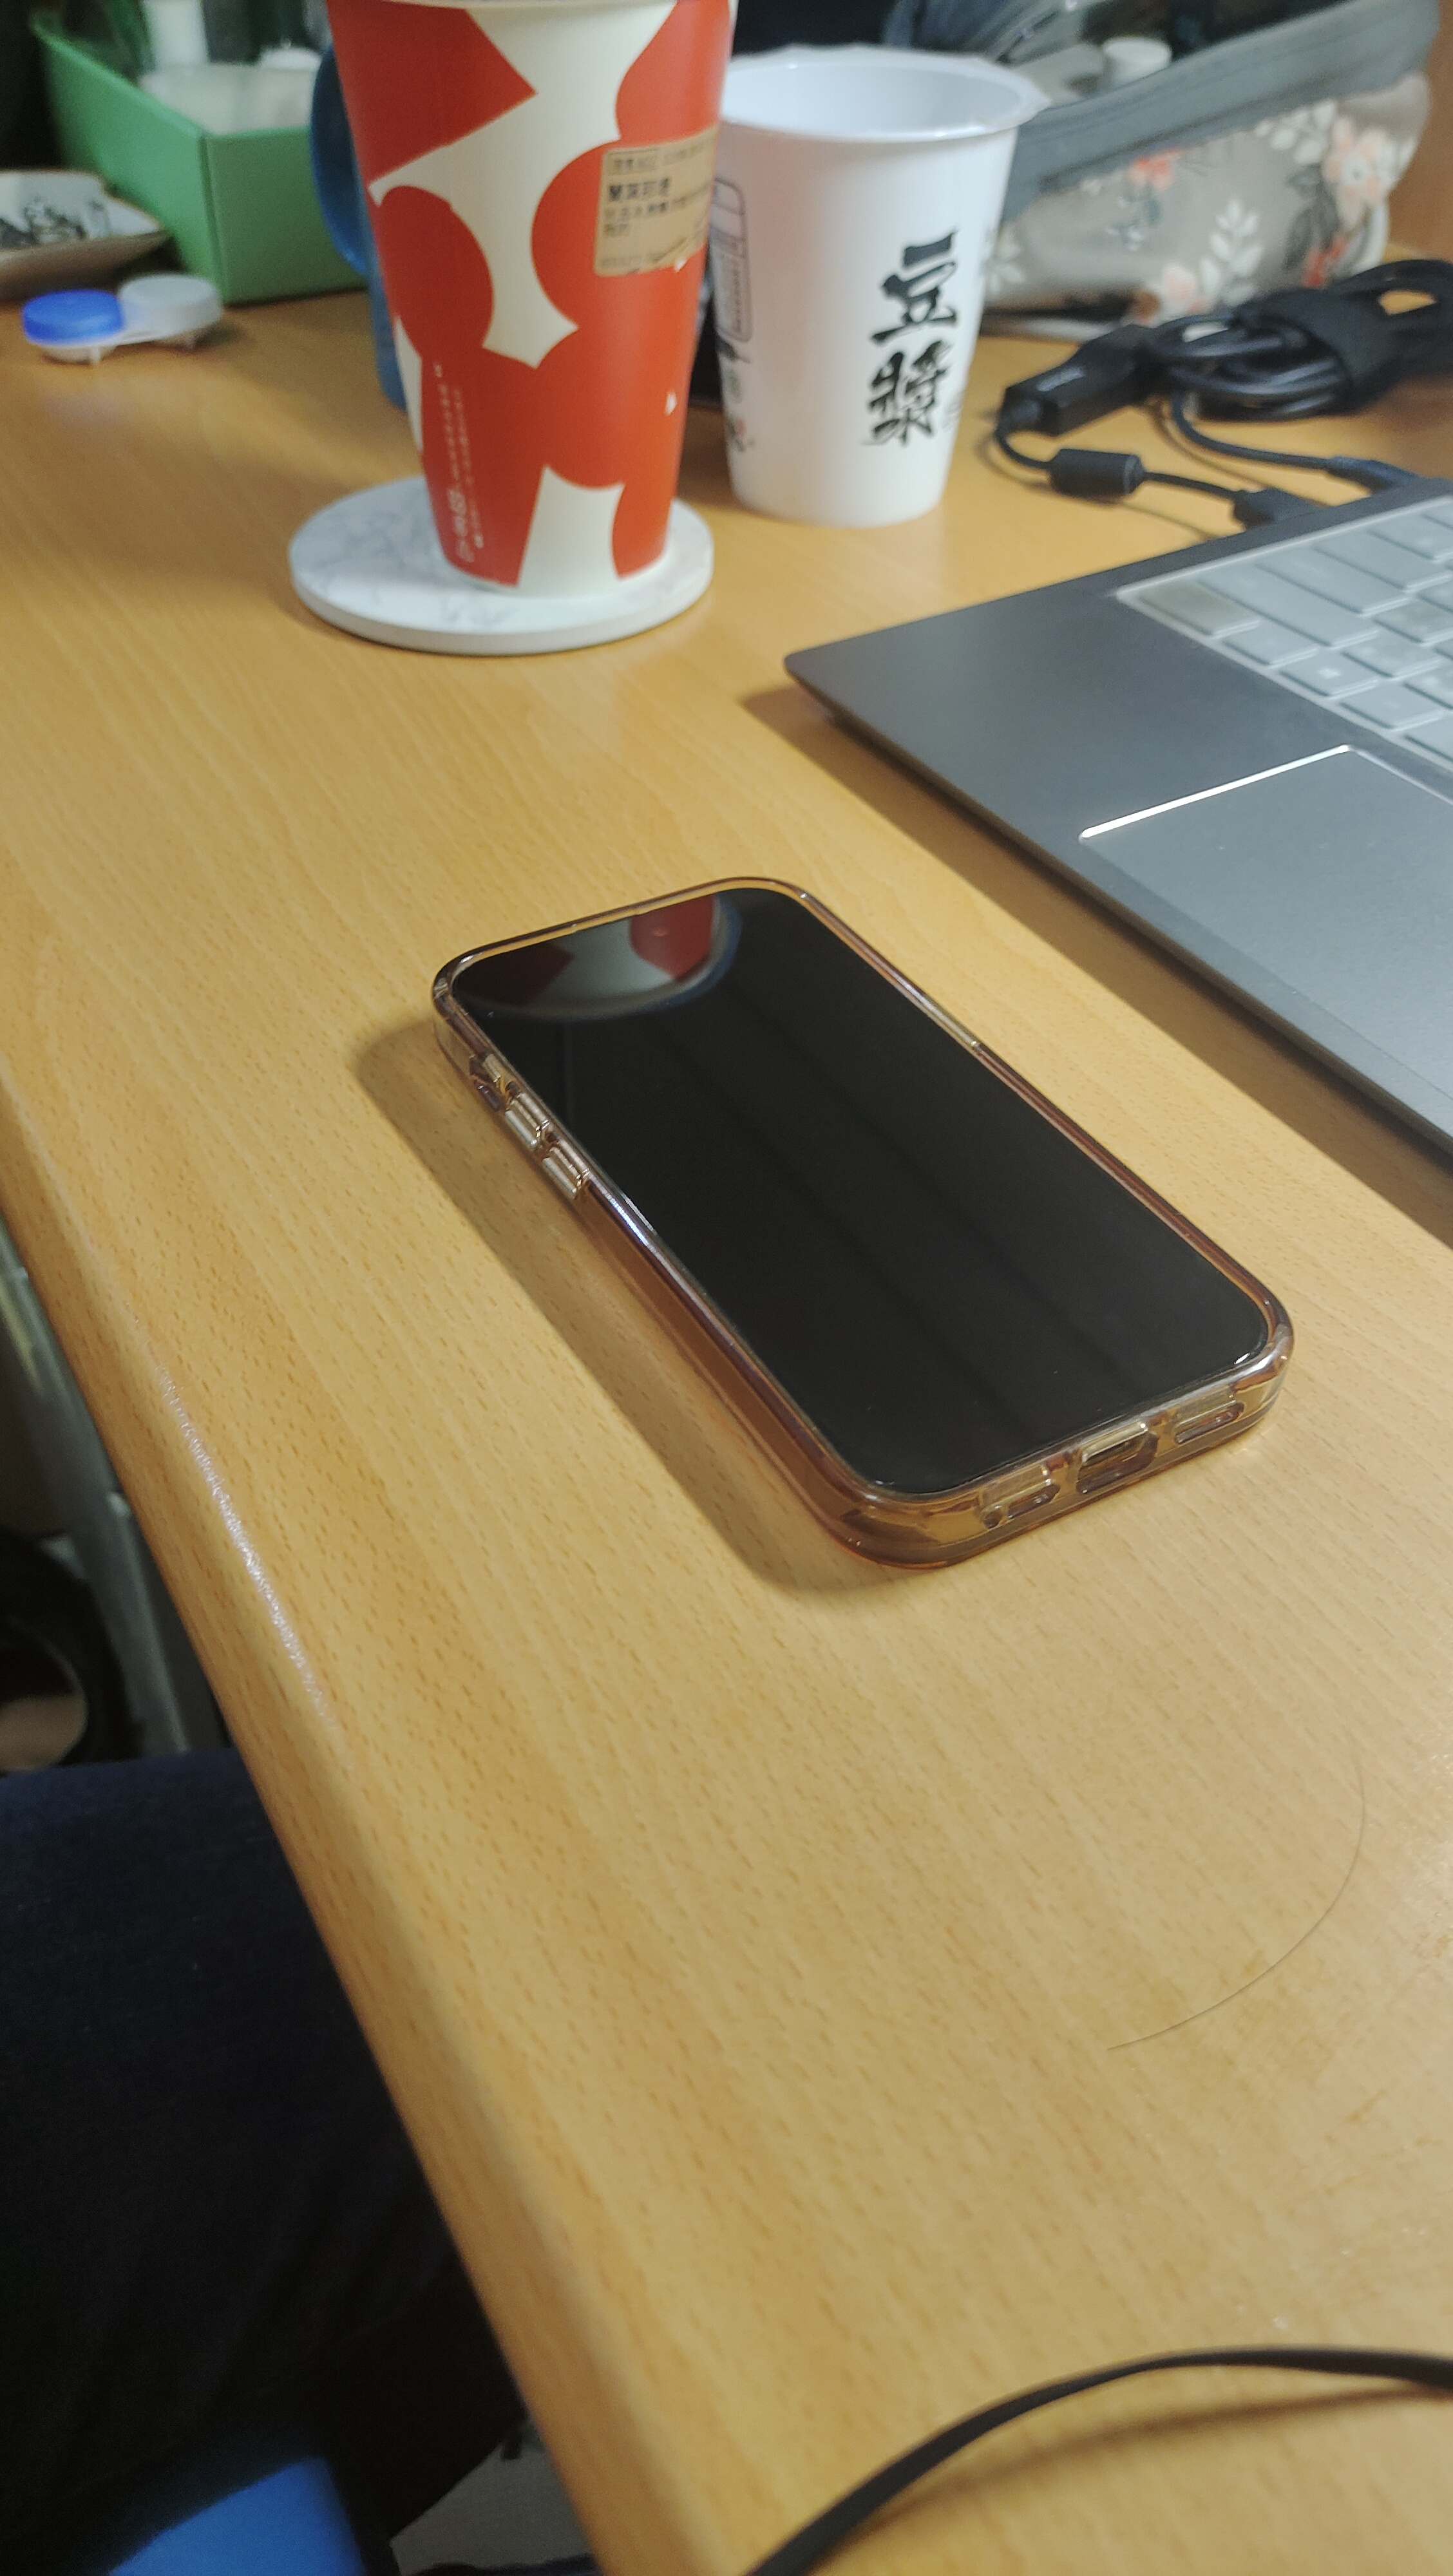iphone: (428, 879, 1303, 1569)
